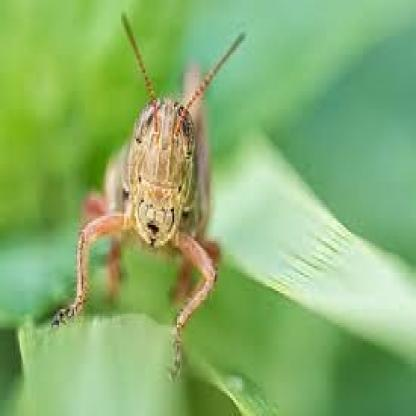grasshopper: (63, 13, 246, 354)
